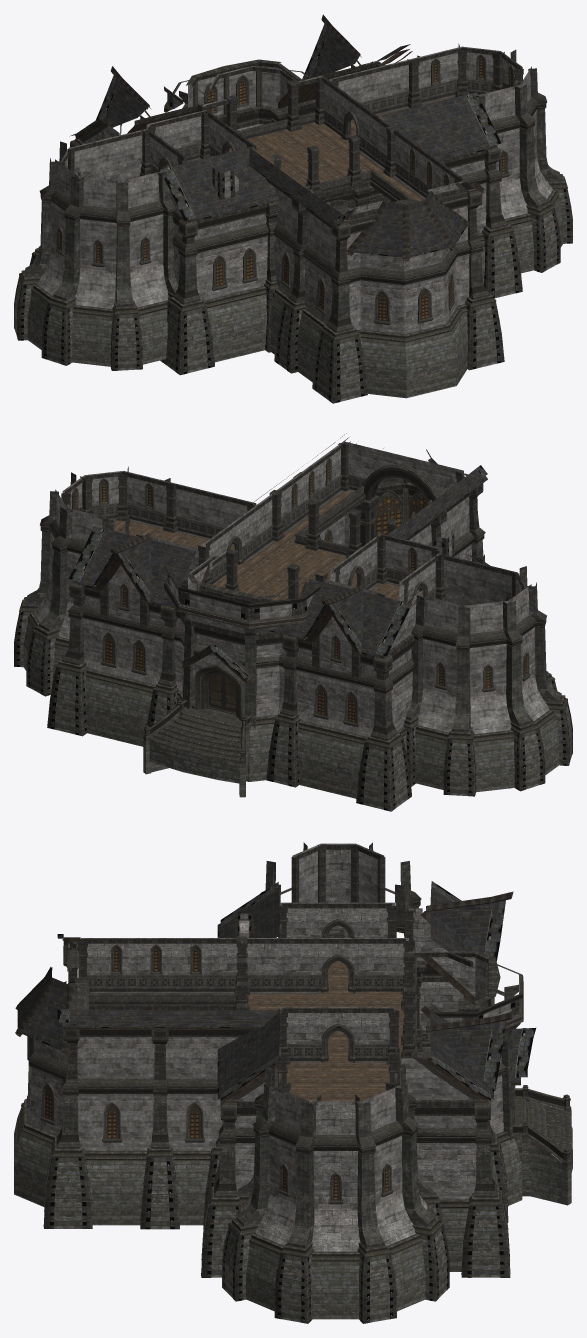
Rendered from eso_gu4_LargeManor_InteriorCombinedCut1-transformed.glb.
3 views of the same model, one above another, from view 1: azimuth 30°, elevation 25°; view 2: azimuth 150°, elevation 25°; view 3: azimuth 270°, elevation 25° (orthographic). The views are drawn at different scales.
Parts seen in each view (by area): view 1: default; view 2: default; view 3: default.
Boxes of the visible parts, <box> form: default: <box>14,14,572,403</box>; default: <box>14,433,572,811</box>; default: <box>14,842,572,1323</box>.
Bounding box in the file's own units: 77.22 × 27.43 × 60.8.
Materials: 16 (16 with a texture image).
